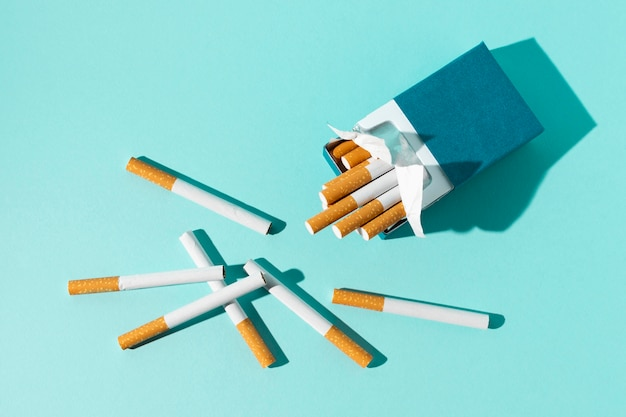cigarette: (322, 37, 547, 240), (243, 258, 375, 370), (179, 229, 276, 368), (115, 269, 268, 350), (125, 155, 274, 236), (331, 287, 491, 330), (303, 168, 397, 236), (67, 264, 228, 296), (331, 185, 405, 239), (317, 159, 394, 207), (322, 155, 379, 191), (356, 201, 407, 240), (326, 137, 361, 165), (341, 146, 371, 170)
